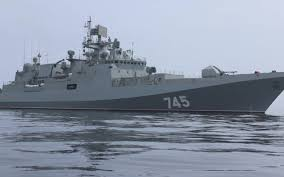tau_muctieu: (6, 30, 284, 119)
